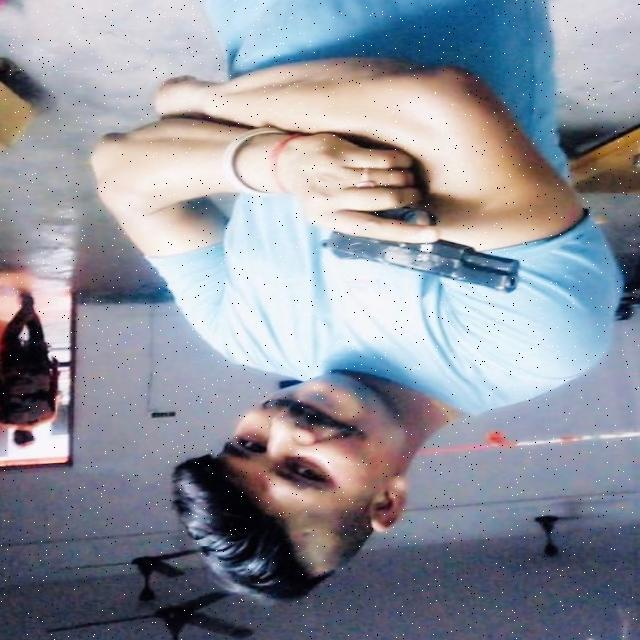gun: (314, 174, 531, 303)
